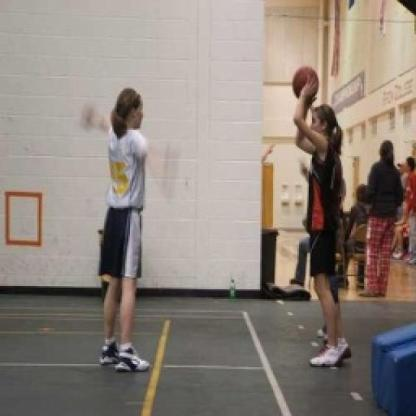basketball: (288, 63, 322, 104)
